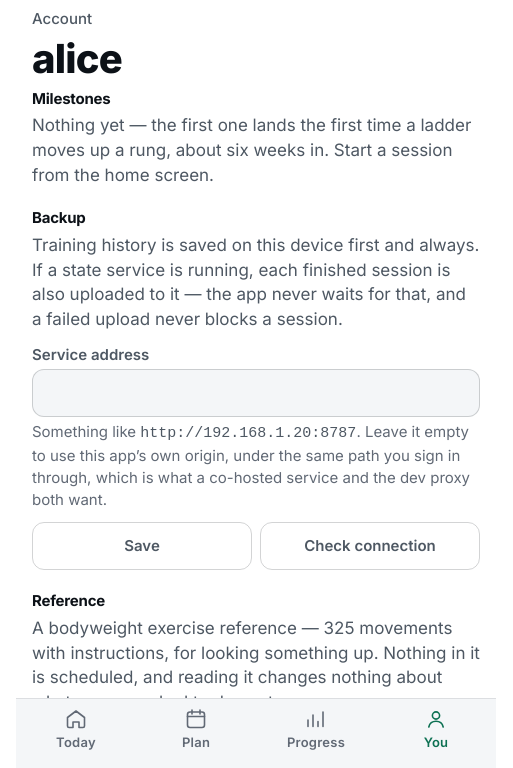
it: the sync settings form › rejects an address that is not a full http address, and saves nothing
This screenshot has width=513, height=768.
(page scrolled)
Type "192.168.1.20:8787" into the field labelled "Service address" at (256, 393), box [32,369,480,417]
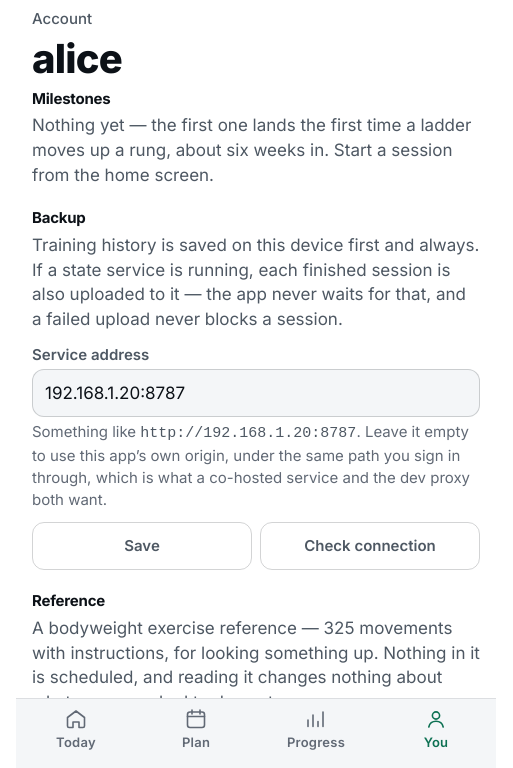
Click the button "Save" at (142, 546), box [32,522,252,570]
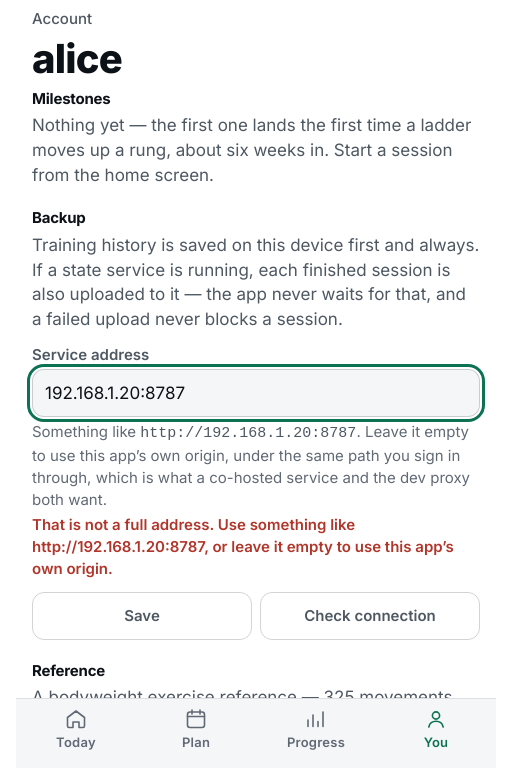
Expected: the text "That is not a full address" is shown, [32,515,454,578]
